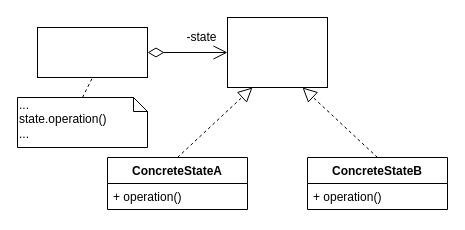
Image size: 465x230. Some labels were removed from this diagram. Each missing label, with the box of its shape:
<<Interface>> State + operation(): (226, 16, 328, 88)
Context: (36, 26, 148, 78)
